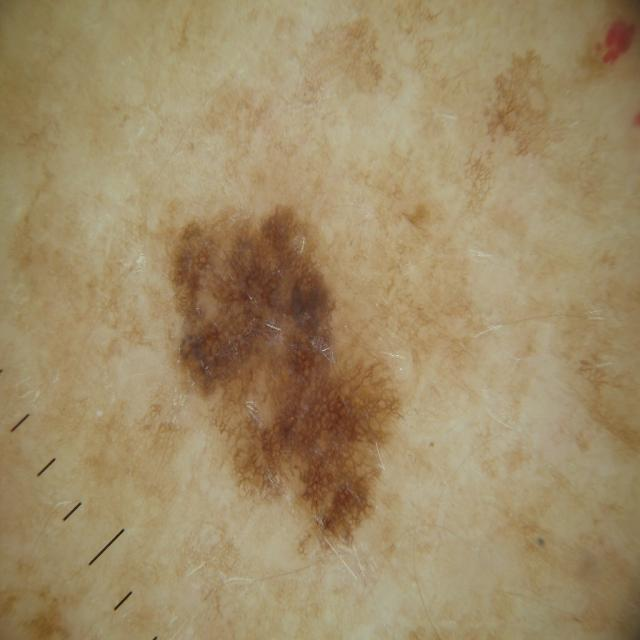Skin-Cancer Melanoma: (89, 60, 536, 640)
